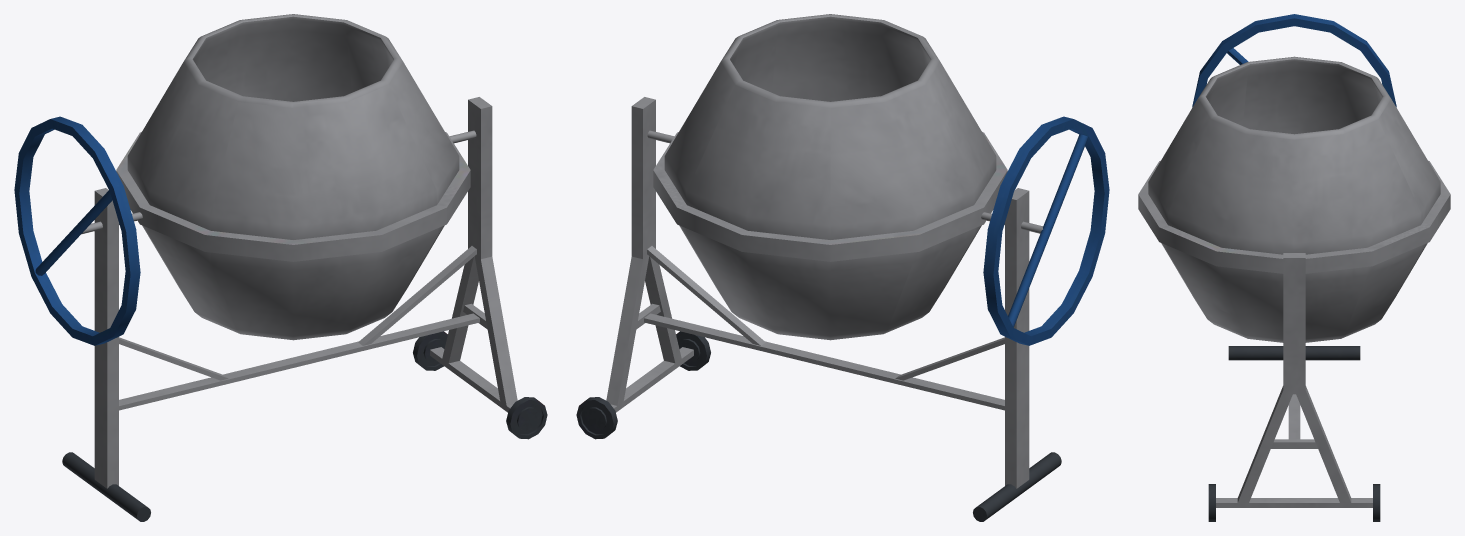
The model's file is betonniere.glb.
3 renders of one model, left to right at view 1: azimuth 30°, elevation 25°; view 2: azimuth 150°, elevation 25°; view 3: azimuth 270°, elevation 25°, orthographic. The views are drawn at different scales.
Visible parts, largest first — view 1: Concrete_Mixer; view 2: Concrete_Mixer; view 3: Concrete_Mixer.
Part boxes in pixels (x1,y1,x2,y2): Concrete_Mixer: [14, 14, 547, 521]; Concrete_Mixer: [576, 14, 1109, 521]; Concrete_Mixer: [1138, 14, 1450, 521].
Size of the model in its own units: 1.48 by 1.3 by 1.07.
Materials: 1 (1 with a texture image).
